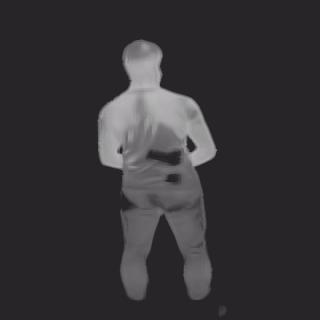Gun: (143, 147, 183, 185)
